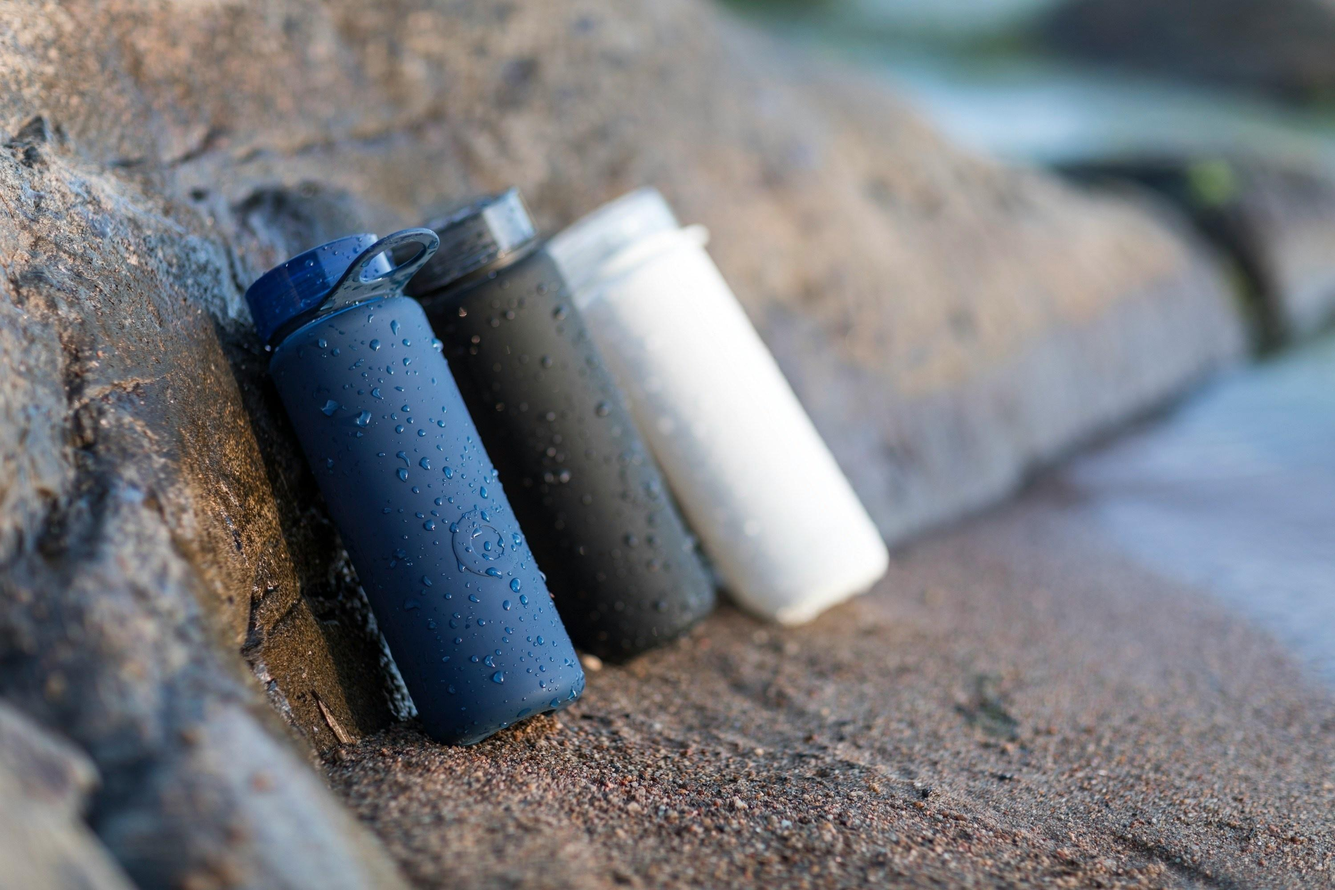Bottle-Detection: (218, 211, 605, 756), (530, 162, 946, 641), (380, 169, 743, 665)
